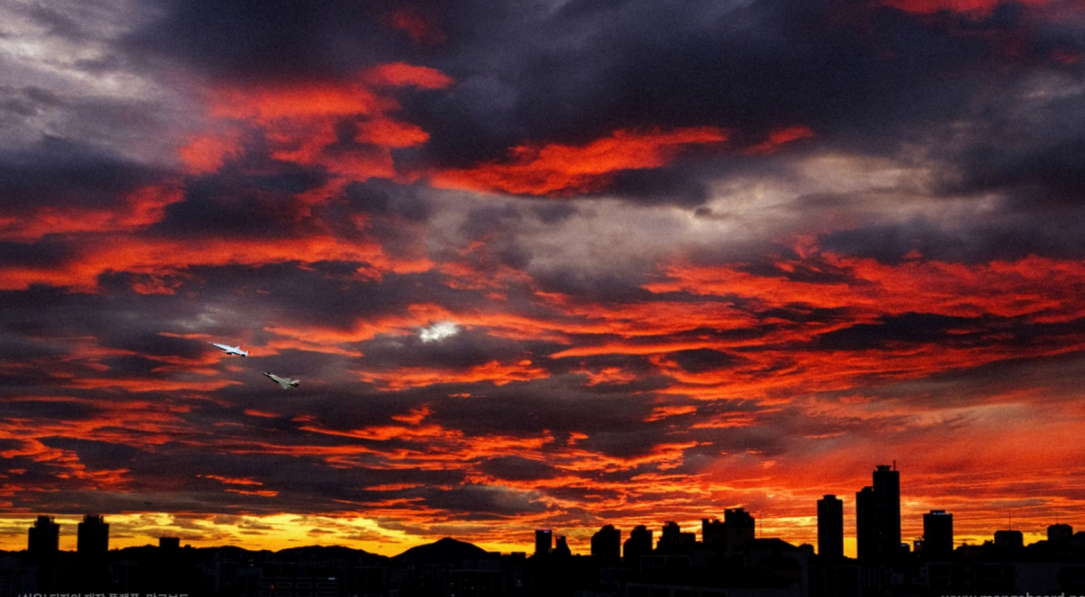airplane: (260, 371, 300, 391)
military drone: (205, 340, 250, 357)
